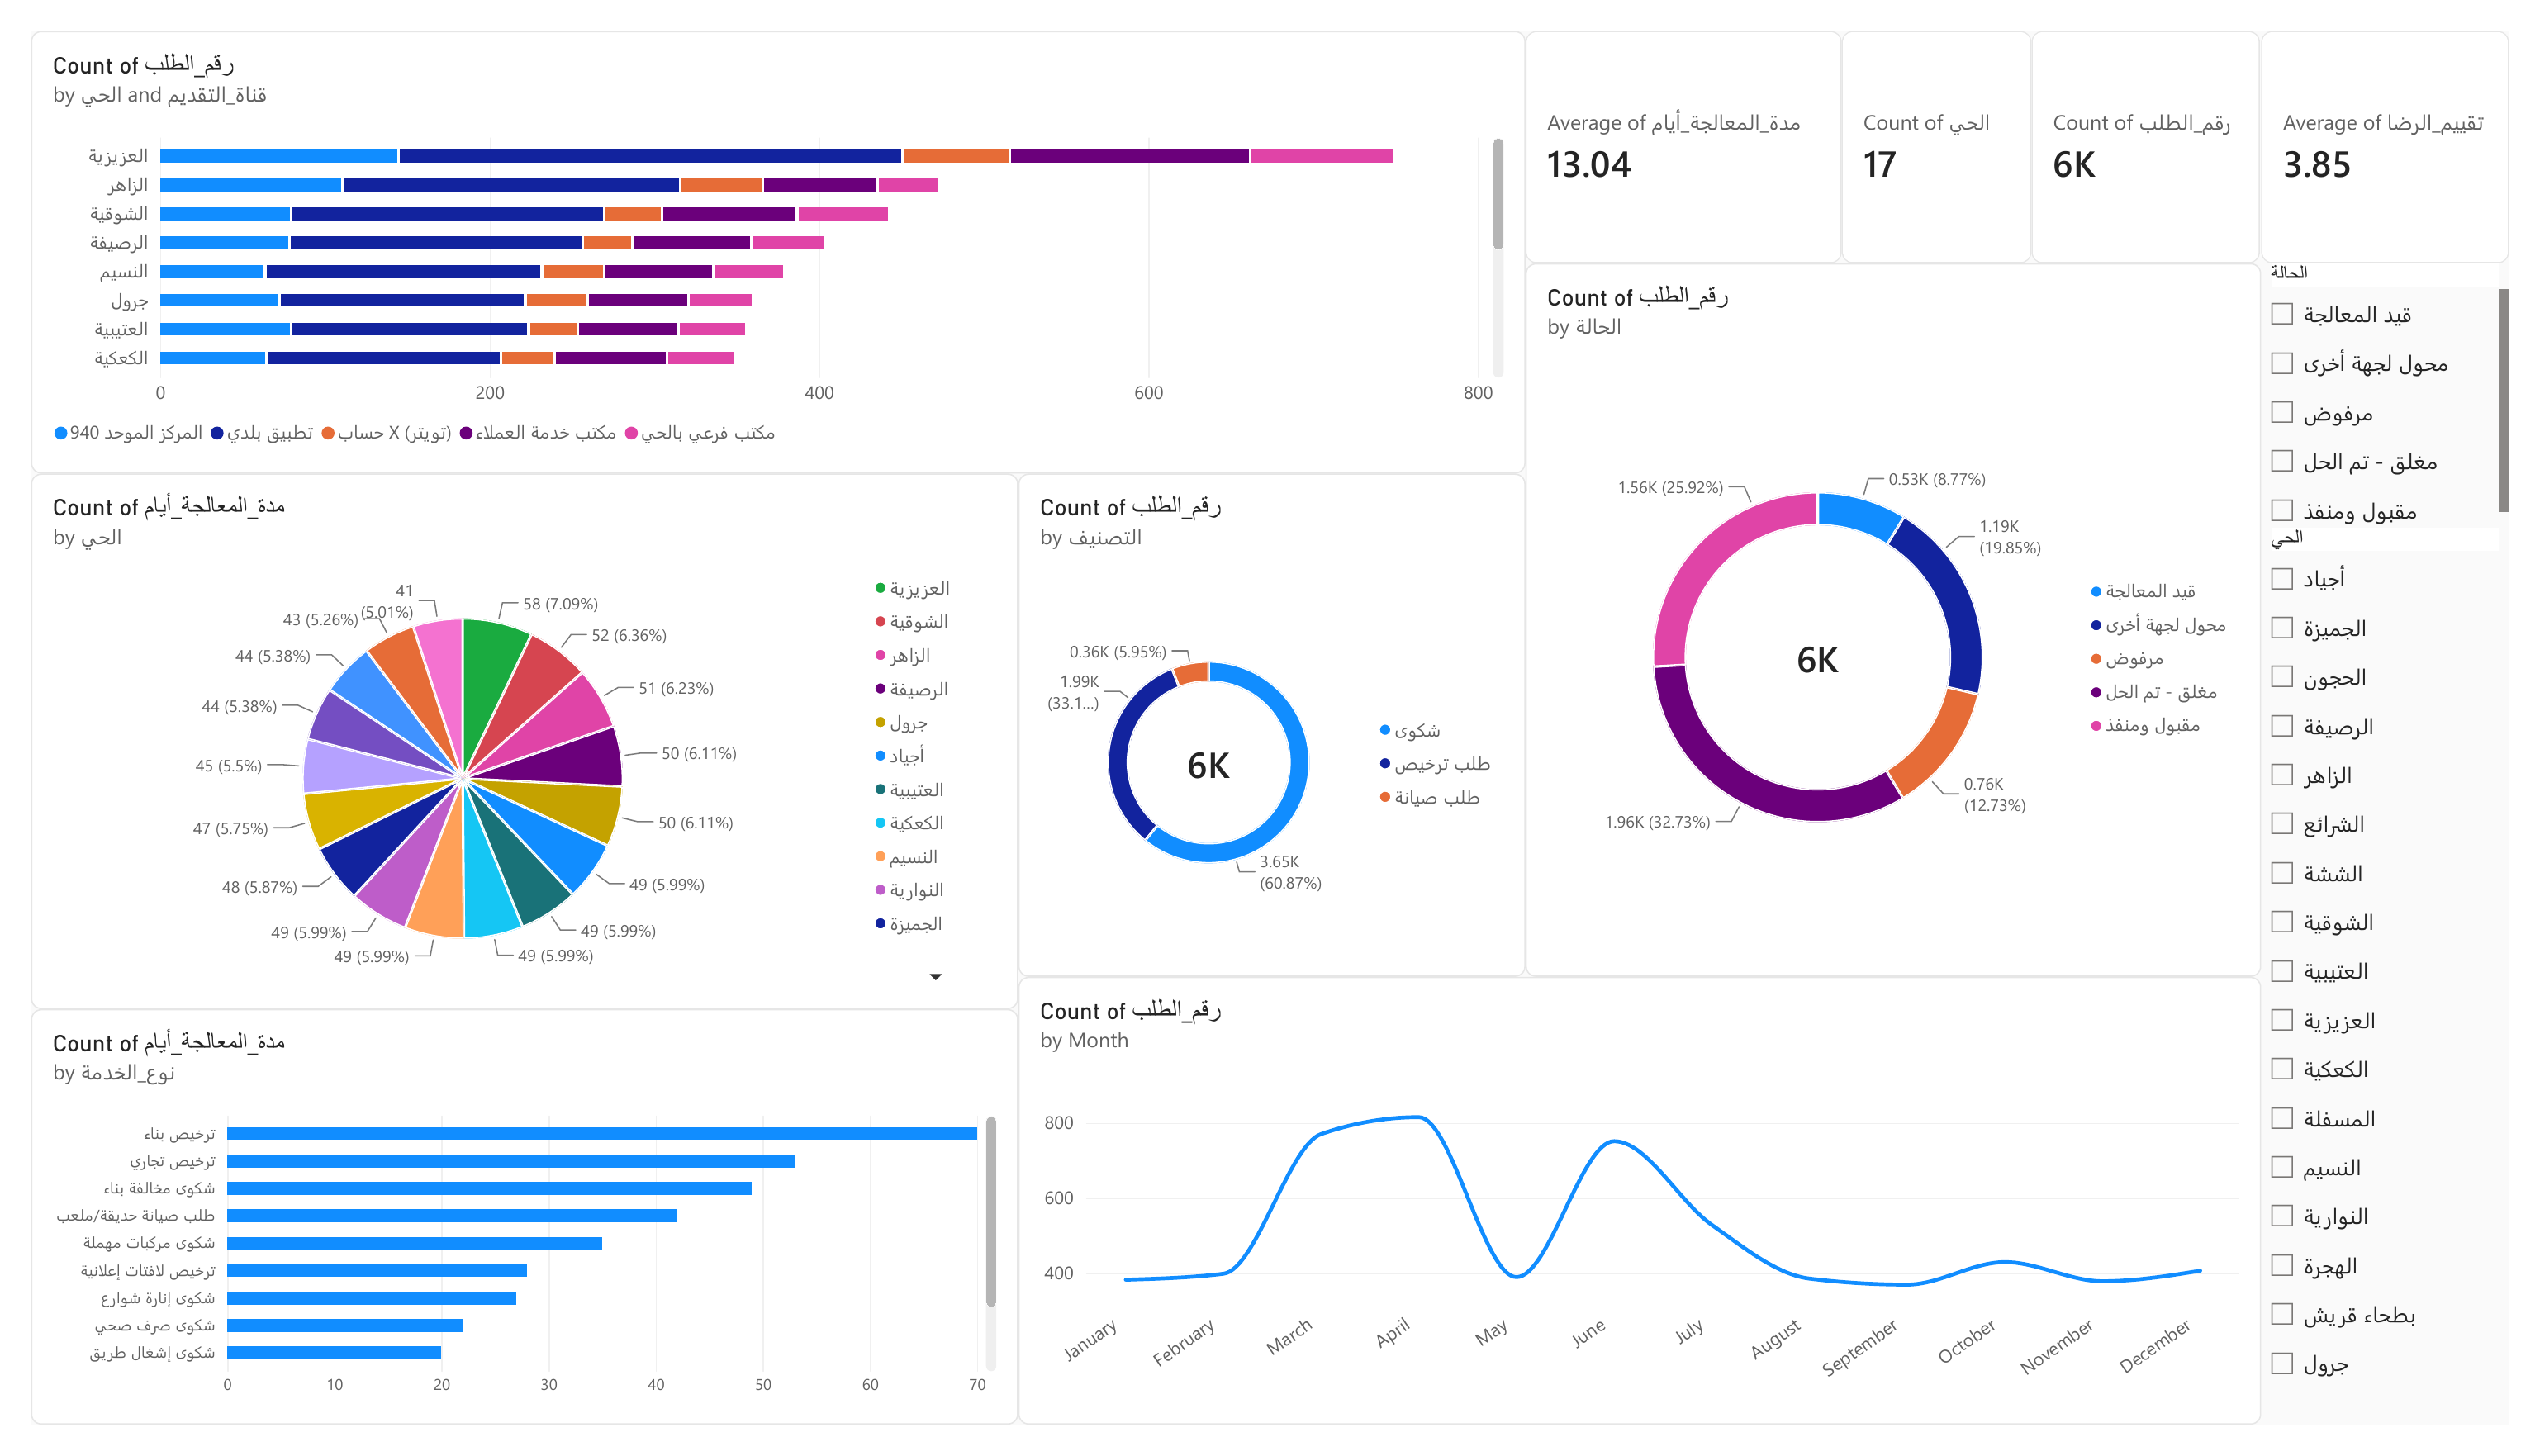

The dashboard page shown, as its layout file describes it:
{"tool":"powerbi","page":{"name":"Page 1","canvas":[1920,1080],"ordinal":0},"visuals":[{"type":"pieChart","fields":{"Category":["municipal_services_makkah.الحي"],"Y":["Count(municipal_services_makkah.مدة_المعالجة_أيام)"]},"box":[0,342.5,765,415],"z":0},{"type":"cardVisual","fields":{"Data":["Count(municipal_services_makkah.رقم_الطلب)"]},"box":[1550,0,177.5,180],"z":1000},{"type":"cardVisual","fields":{"Data":["Count(municipal_services_makkah.الحي)"]},"box":[1402.5,0,147.5,180],"z":2000},{"type":"cardVisual","fields":{"Data":["Avg(municipal_services_makkah.مدة_المعالجة_أيام)"]},"box":[1157.5,0,245,180],"z":3000},{"type":"cardVisual","fields":{"Data":["Avg(municipal_services_makkah.تقييم_الرضا)"]},"box":[1727.5,0,192.5,180],"z":4000},{"type":"lineChart","fields":{"Category":["municipal_services_makkah.تاريخ_التقديم.Variation.Date Hierarchy.Month"],"Y":["Count(municipal_services_makkah.رقم_الطلب)"]},"box":[765,732.5,962.5,347.5],"z":5000},{"type":"donutChart","fields":{"Category":["municipal_services_makkah.التصنيف"],"Y":["CountNonNull(municipal_services_makkah.رقم_الطلب)"]},"box":[765,342.5,392.5,390],"z":6000},{"type":"donutChart","fields":{"Series":["municipal_services_makkah.الحالة"],"Y":["CountNonNull(municipal_services_makkah.رقم_الطلب)"]},"box":[1157.5,180,570,552.5],"z":7000},{"type":"slicer","fields":{"Values":["municipal_services_makkah.الحي"]},"box":[1727.5,385,192.5,695],"z":8000},{"type":"slicer","fields":{"Values":["municipal_services_makkah.الحالة"]},"box":[1727.5,180,192.5,205],"z":9000},{"type":"barChart","fields":{"Category":["municipal_services_makkah.نوع_الخدمة"],"Y":["Count(municipal_services_makkah.مدة_المعالجة_أيام)"]},"box":[0,757.5,765,322.5],"z":10000},{"type":"barChart","fields":{"Category":["municipal_services_makkah.الحي"],"Series":["municipal_services_makkah.قناة_التقديم"],"Y":["CountNonNull(municipal_services_makkah.رقم_الطلب)"]},"box":[0,0,1157.5,342.5],"z":11000}]}

Visuals, with their boxes on the page's 1920x1080 design canvas (x1, y1, x2, y2). These are canvas units, not pixel positions in the 2540x1456 screenshot, which may show the page scaled, cropped or inside an application window:
pieChart - municipal_services_makkah.الحي x Count(municipal_services_makkah.مدة_المعالجة_أيام): bbox=[0, 342, 765, 758]
cardVisual - Count(municipal_services_makkah.رقم_الطلب): bbox=[1550, 0, 1728, 180]
cardVisual - Count(municipal_services_makkah.الحي): bbox=[1402, 0, 1550, 180]
cardVisual - Avg(municipal_services_makkah.مدة_المعالجة_أيام): bbox=[1158, 0, 1402, 180]
cardVisual - Avg(municipal_services_makkah.تقييم_الرضا): bbox=[1728, 0, 1920, 180]
lineChart - municipal_services_makkah.تاريخ_التقديم.Variation.Date Hierarchy.Month x Count(municipal_services_makkah.رقم_الطلب): bbox=[765, 732, 1728, 1080]
donutChart - municipal_services_makkah.التصنيف x CountNonNull(municipal_services_makkah.رقم_الطلب): bbox=[765, 342, 1158, 732]
donutChart - municipal_services_makkah.الحالة x CountNonNull(municipal_services_makkah.رقم_الطلب): bbox=[1158, 180, 1728, 732]
slicer - municipal_services_makkah.الحي: bbox=[1728, 385, 1920, 1080]
slicer - municipal_services_makkah.الحالة: bbox=[1728, 180, 1920, 385]
barChart - municipal_services_makkah.نوع_الخدمة x Count(municipal_services_makkah.مدة_المعالجة_أيام): bbox=[0, 758, 765, 1080]
barChart - municipal_services_makkah.الحي x municipal_services_makkah.قناة_التقديم: bbox=[0, 0, 1158, 342]
